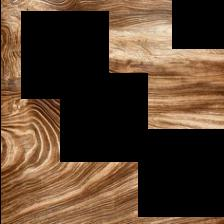brown: (0, 1, 224, 224)
